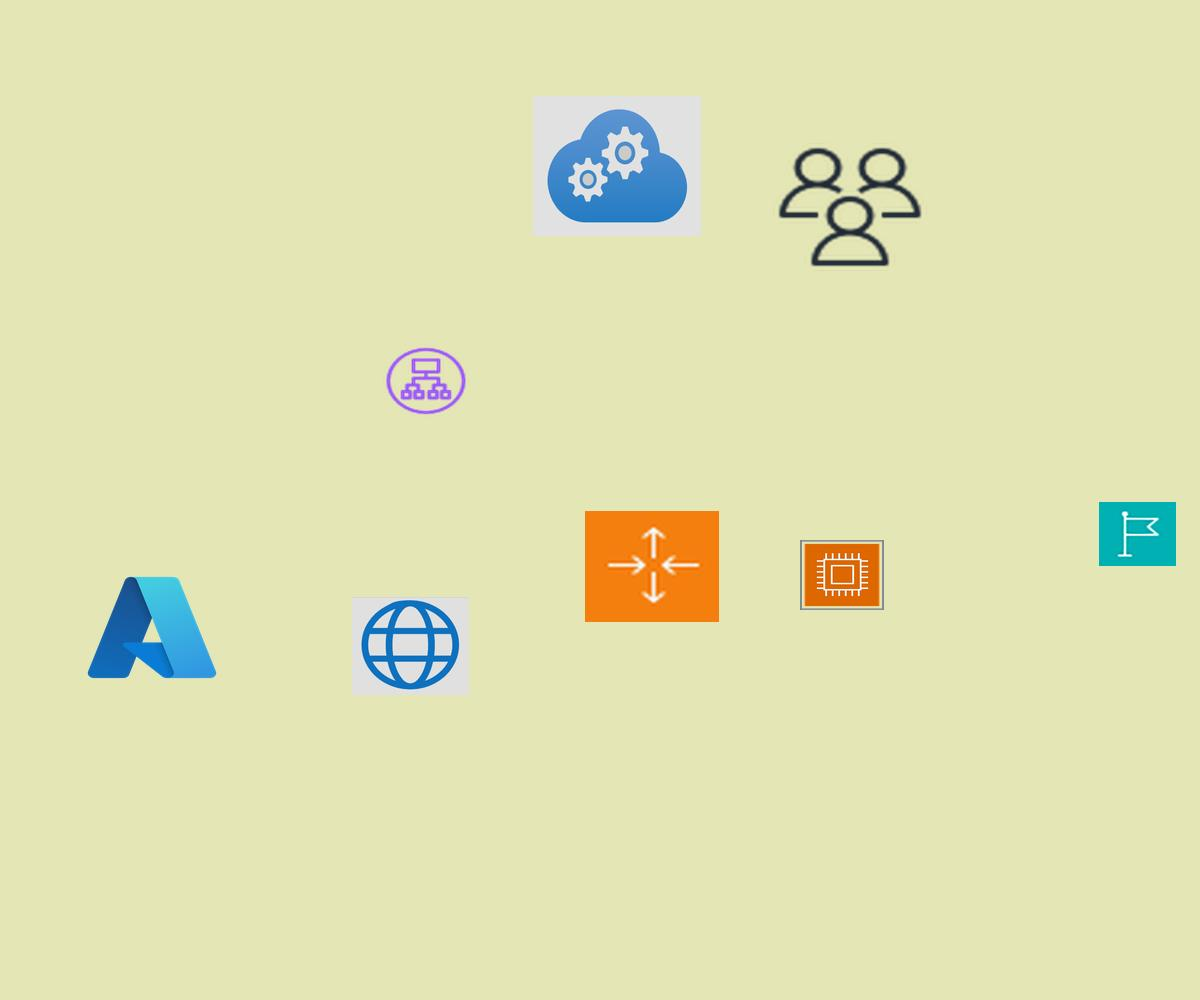AWS-Category_Compute: (800, 540, 884, 610)
AWS-Region: (1099, 502, 1176, 566)
AWS-Res_Elastic-Load-Balancing_Application-Load-Balancer: (383, 345, 469, 417)
AWS-Res_Users: (773, 143, 927, 271)
AWS-Scaling-group: (585, 511, 719, 622)
Azure_cloud_services: (533, 96, 701, 236)
Azure_http: (352, 597, 469, 695)
Azure_services: (82, 569, 222, 686)
